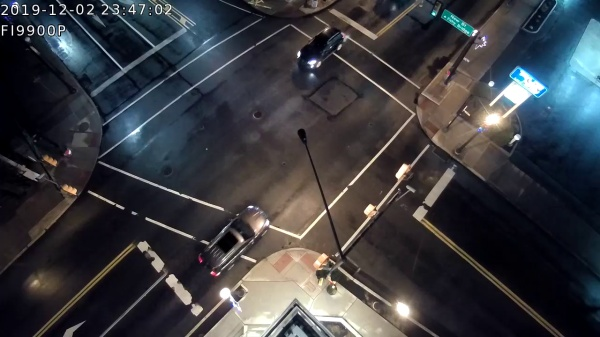car: (196, 205, 269, 277), (292, 26, 344, 71)
